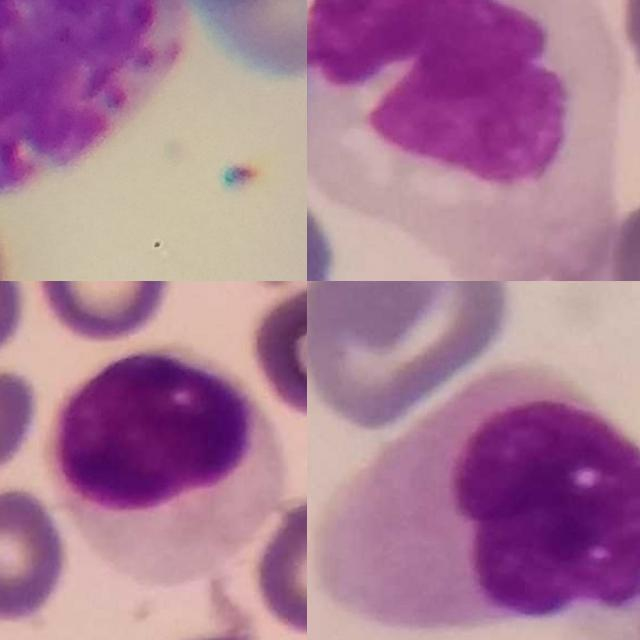Basophil: (0, 0, 191, 198)
Lymphocyte: (47, 345, 289, 586)
Monocyte: (307, 0, 618, 281), (314, 363, 640, 631)
